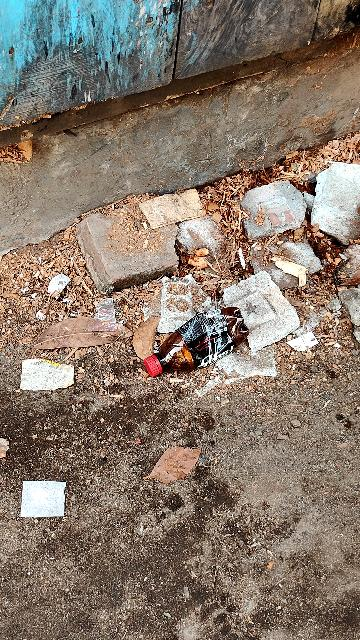bottle: (139, 311, 266, 387)
